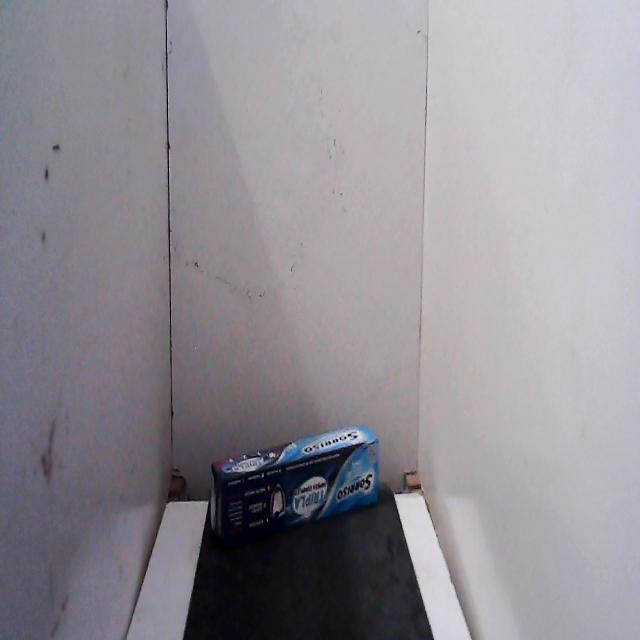papel: (207, 417, 386, 545)
